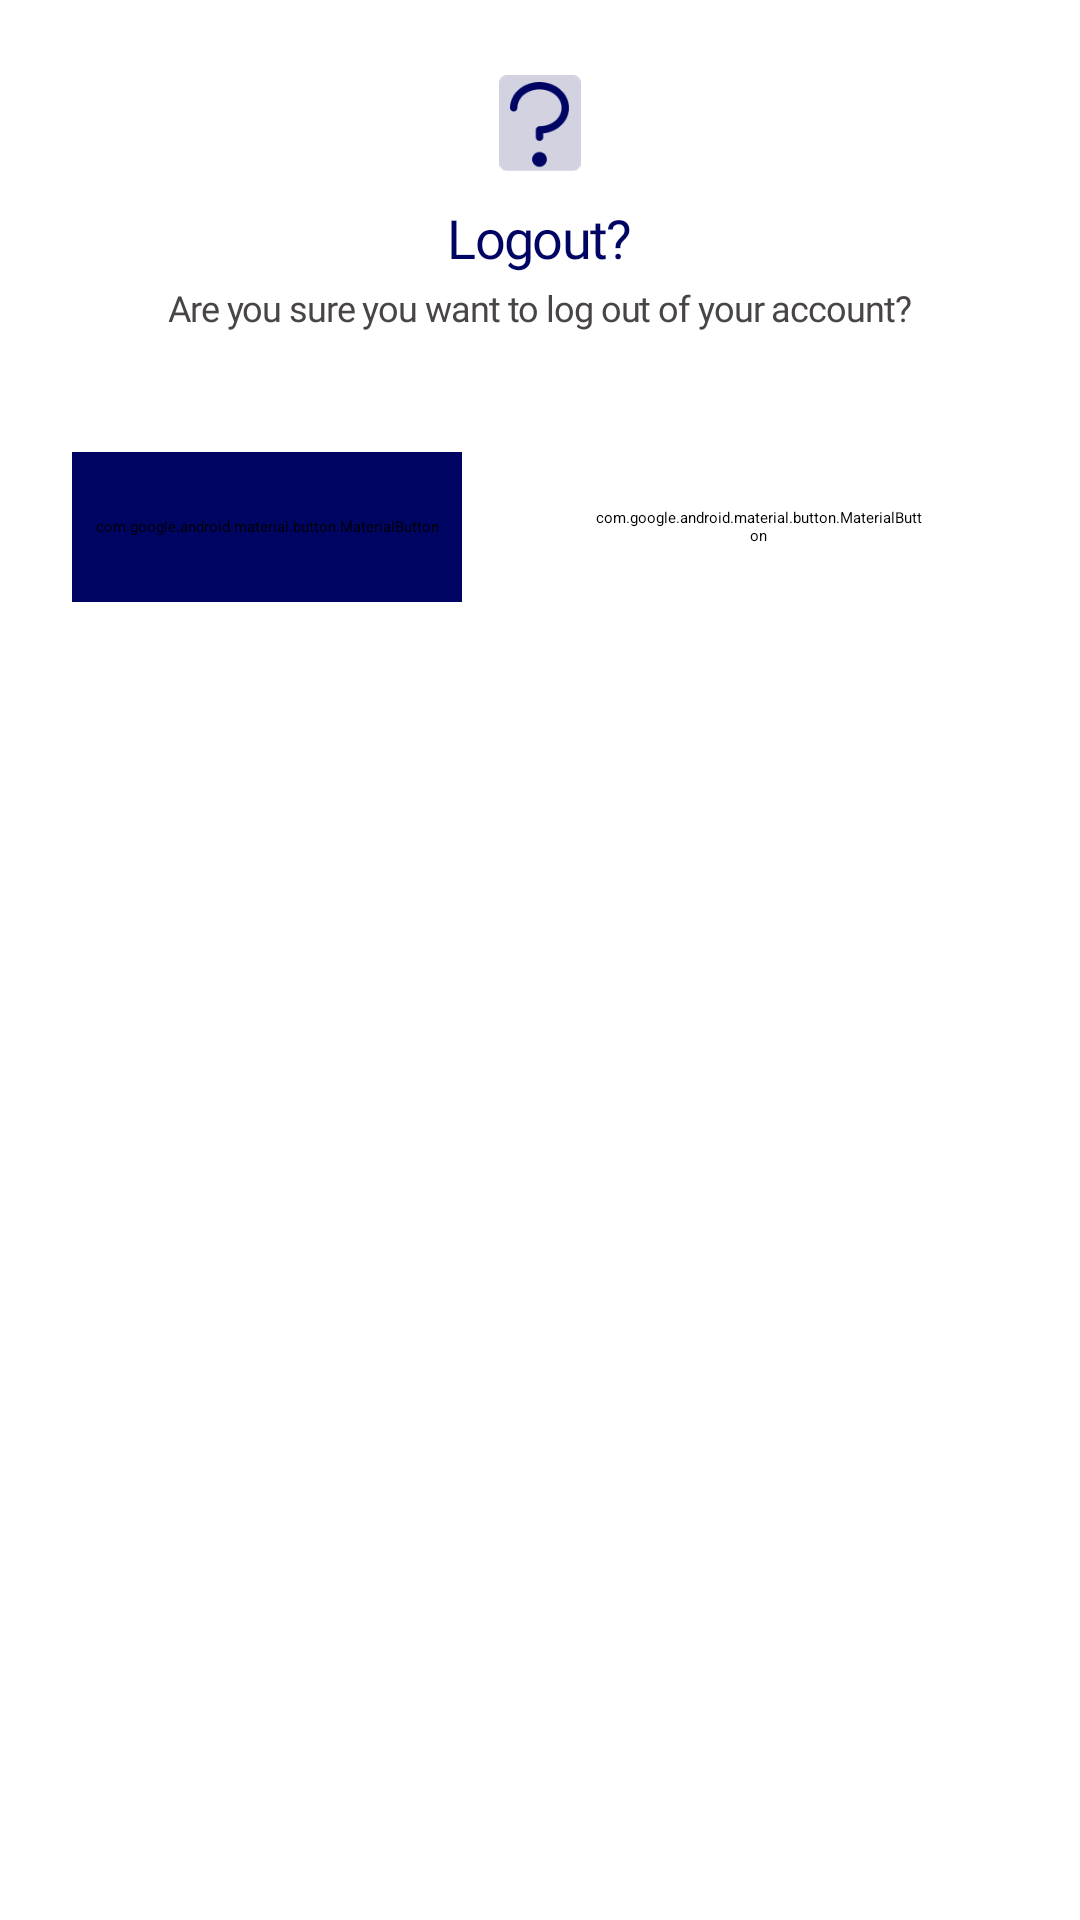

Screen size 1080*1920. Icon name, then its box in pixels as (x1, y1, x2, y2):
Question Mark: (499, 75, 581, 171)
